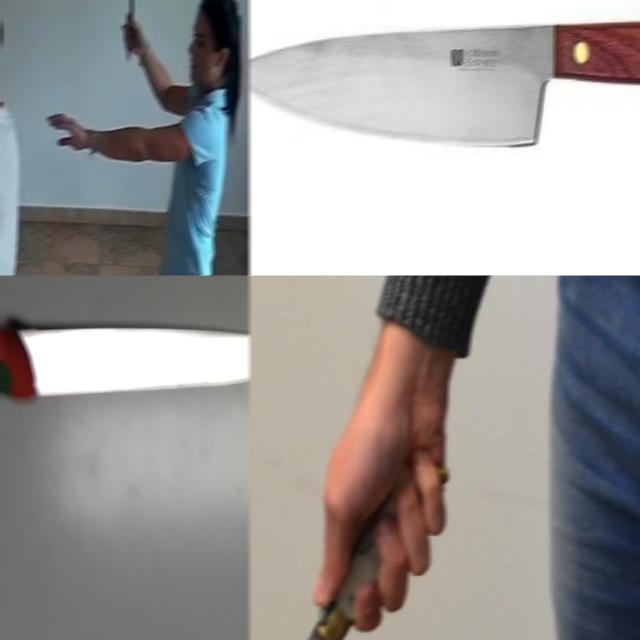Knife: (248, 21, 640, 145), (0, 324, 250, 398), (248, 536, 378, 640)
Knife_Handle: (248, 394, 444, 640), (120, 0, 142, 60), (124, 0, 135, 60)
